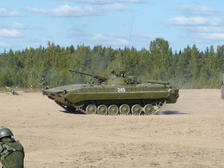bmp: (43, 67, 179, 115)
